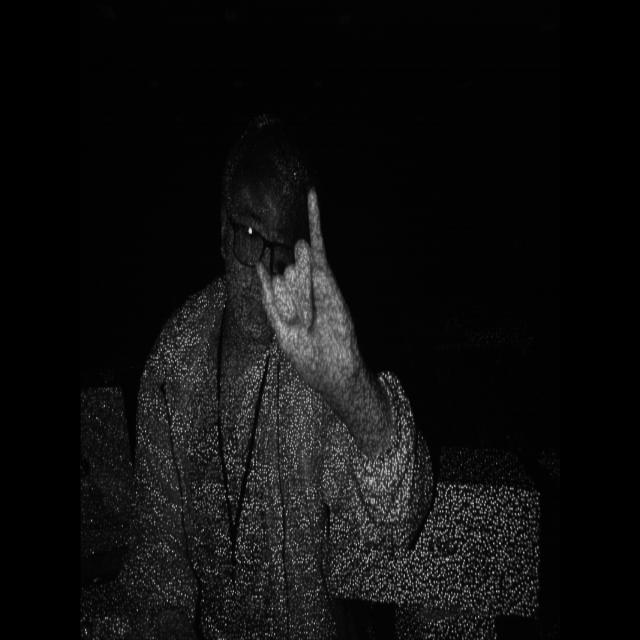I: (252, 178, 359, 379)
